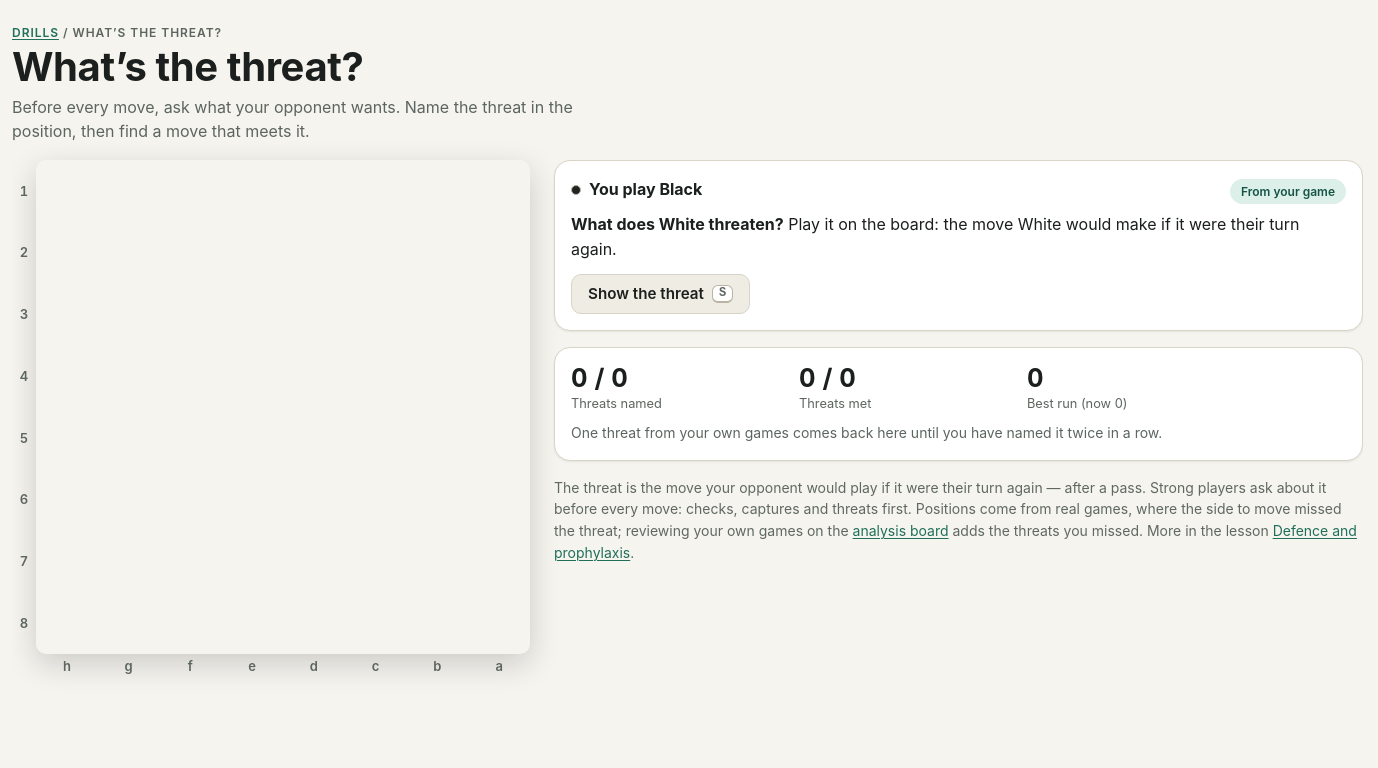
ThreatDrillPage › starts with a threat from the learner’s own game when one is due
This screenshot has width=1378, height=768.
Expected: the text "From your game" is shown, [1230,179,1346,204]
Click the button "Show the threat S".
click(661, 294)  # box [571,274,750,314]
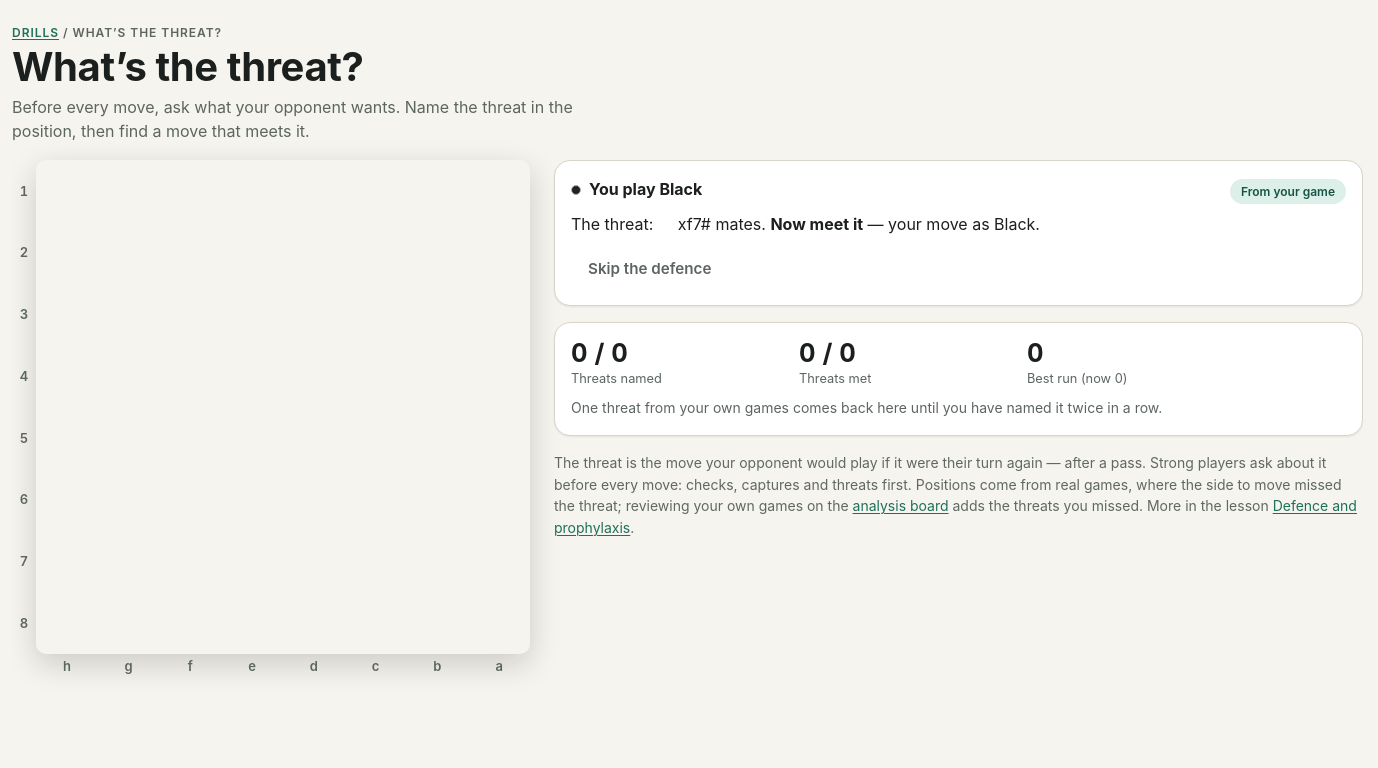
Click the button "Skip the defence".
click(650, 269)  # box [571,249,728,289]
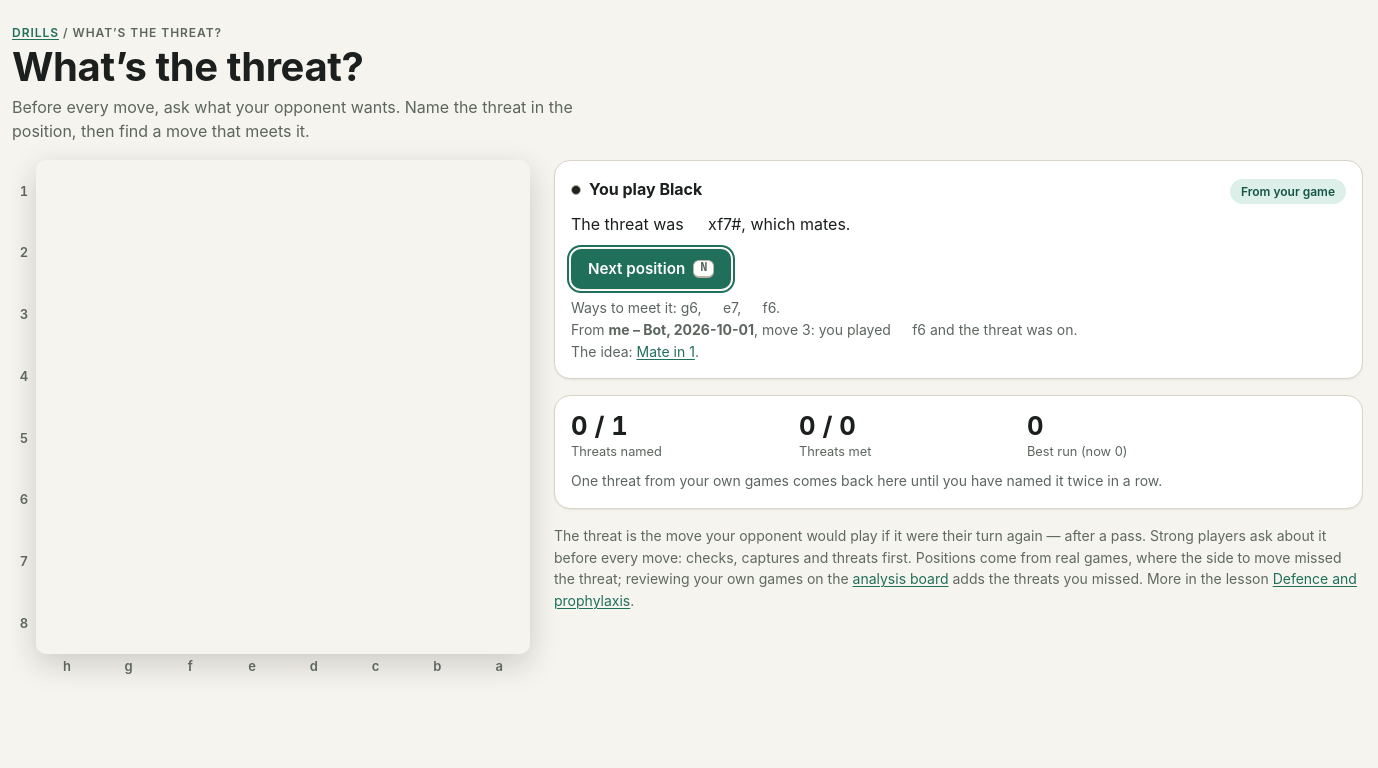
Click the button "Next position N".
click(651, 269)  # box [571,249,731,289]
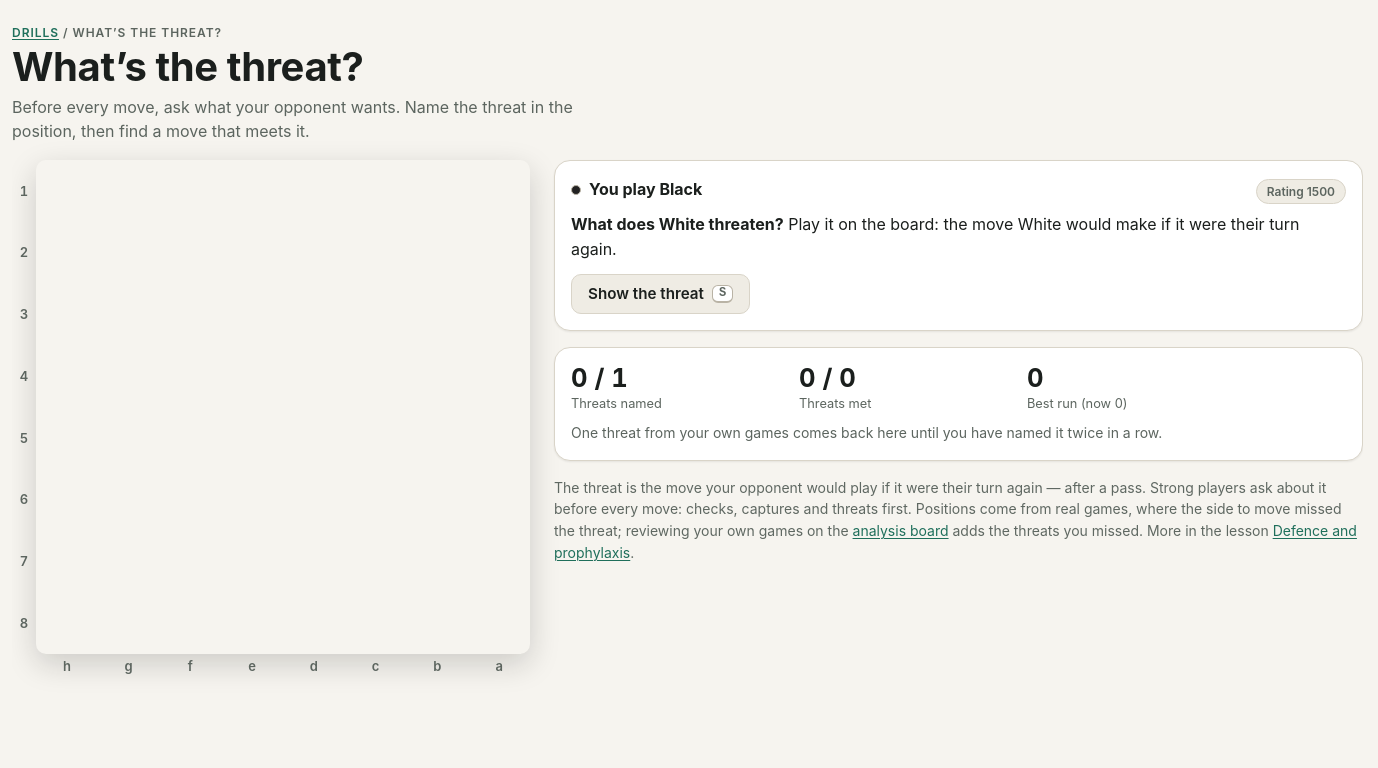
Now the text "From your game" is gone
